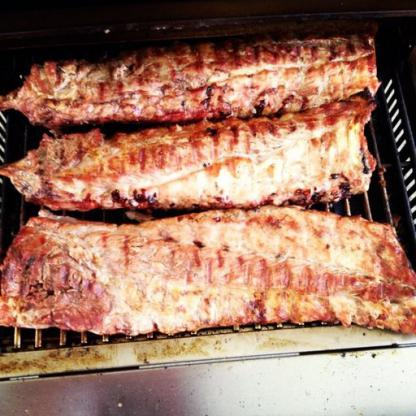pork rib: (0, 209, 415, 337), (6, 99, 370, 205), (11, 31, 377, 119)
